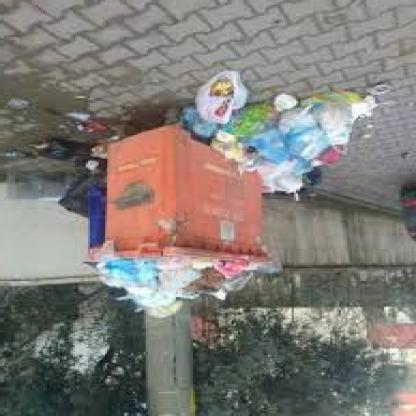Garbage: (230, 66, 374, 198), (96, 259, 242, 321), (318, 74, 362, 138), (189, 74, 255, 110), (266, 82, 307, 136), (266, 150, 311, 198), (131, 276, 178, 305), (62, 102, 102, 136), (106, 257, 146, 286), (294, 141, 348, 162), (183, 275, 228, 297)
